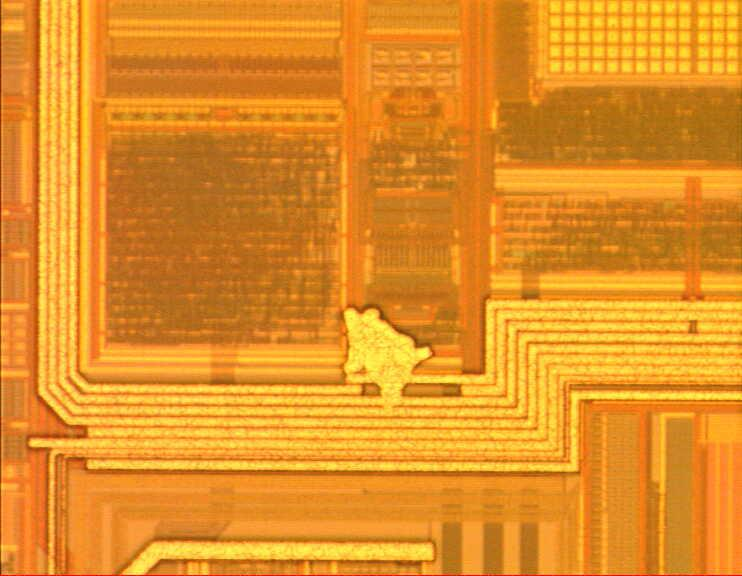BLOCK ETCH: (332, 297, 443, 408)
